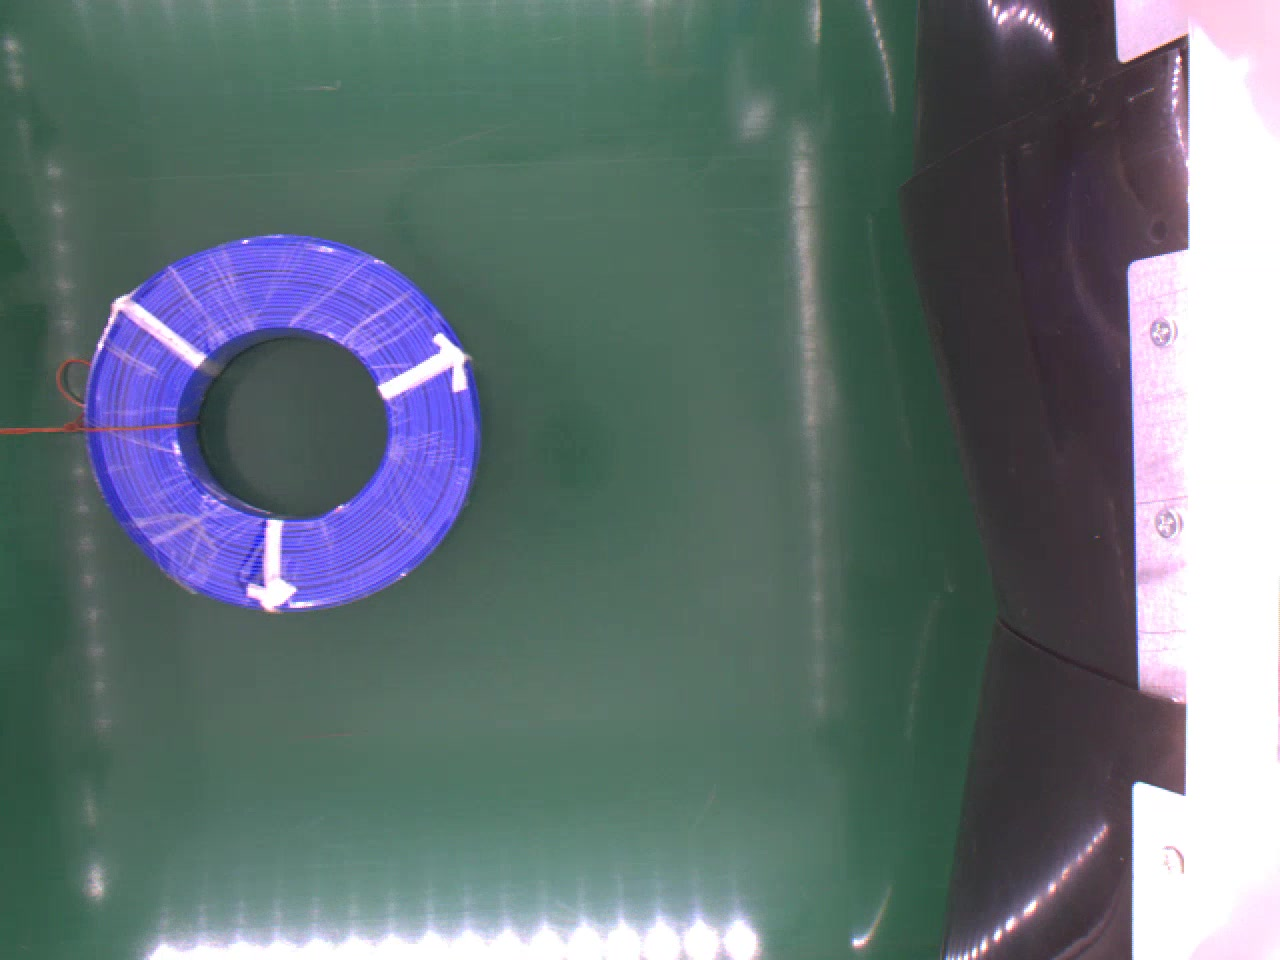blue: (87, 232, 478, 610)
